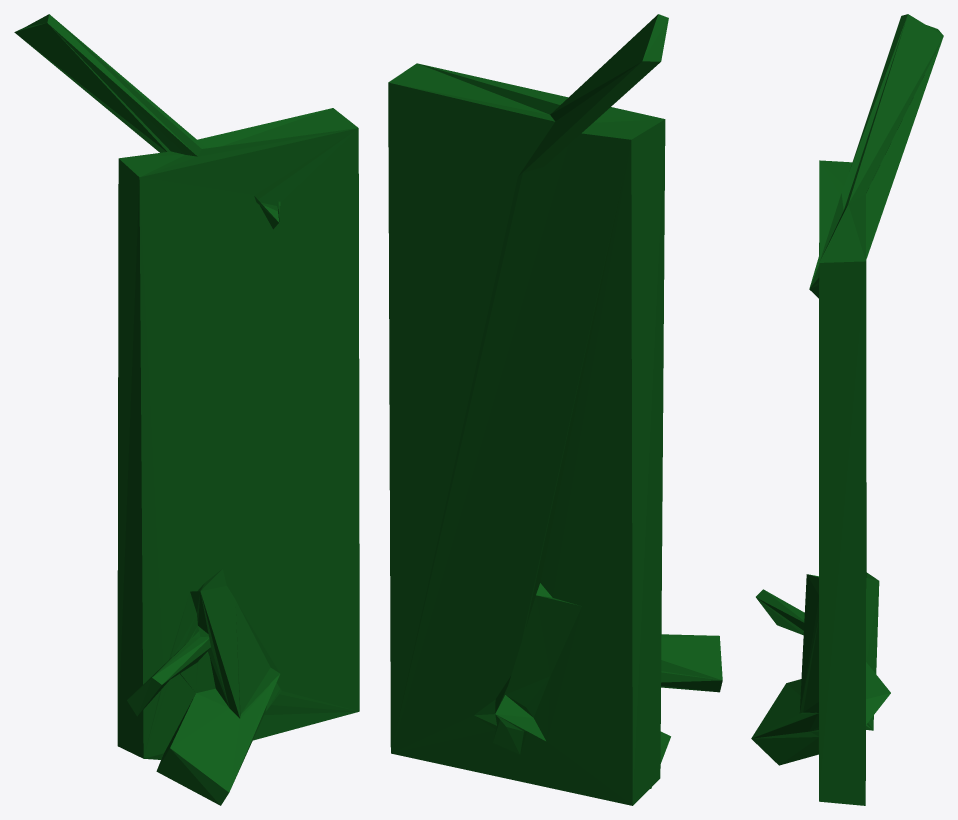
The picture shows the model from 3 angles, left to right: view 1: azimuth 30°, elevation 25°; view 2: azimuth 150°, elevation 25°; view 3: azimuth 270°, elevation 25°; orthographic projection. The views are drawn at different scales.
Parts seen in each view (by area): view 1: 477_Cube.1935; view 2: 477_Cube.1935; view 3: 477_Cube.1935.
Part boxes in pixels (box(x1,y1,x2,y2)): 477_Cube.1935: box(14, 14, 359, 805); 477_Cube.1935: box(388, 14, 722, 805); 477_Cube.1935: box(751, 14, 943, 805).
Size of the model in its own units: 6.06 by 15.78 by 3.9.
